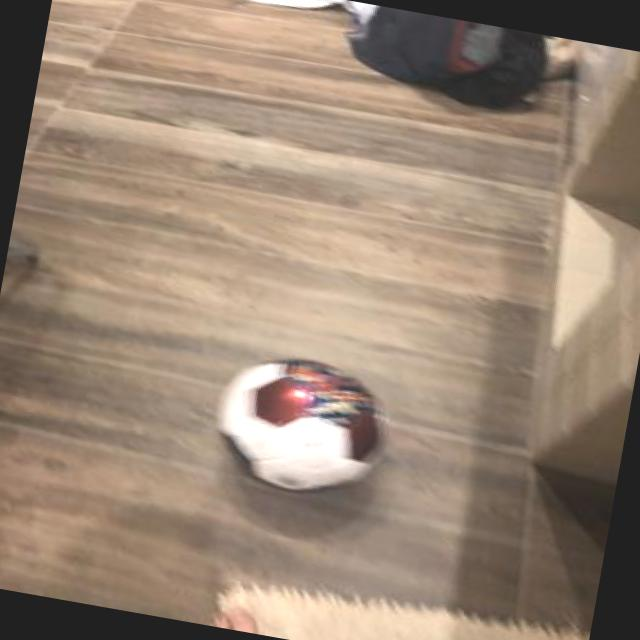Soccer Ball: (202, 344, 397, 505)
